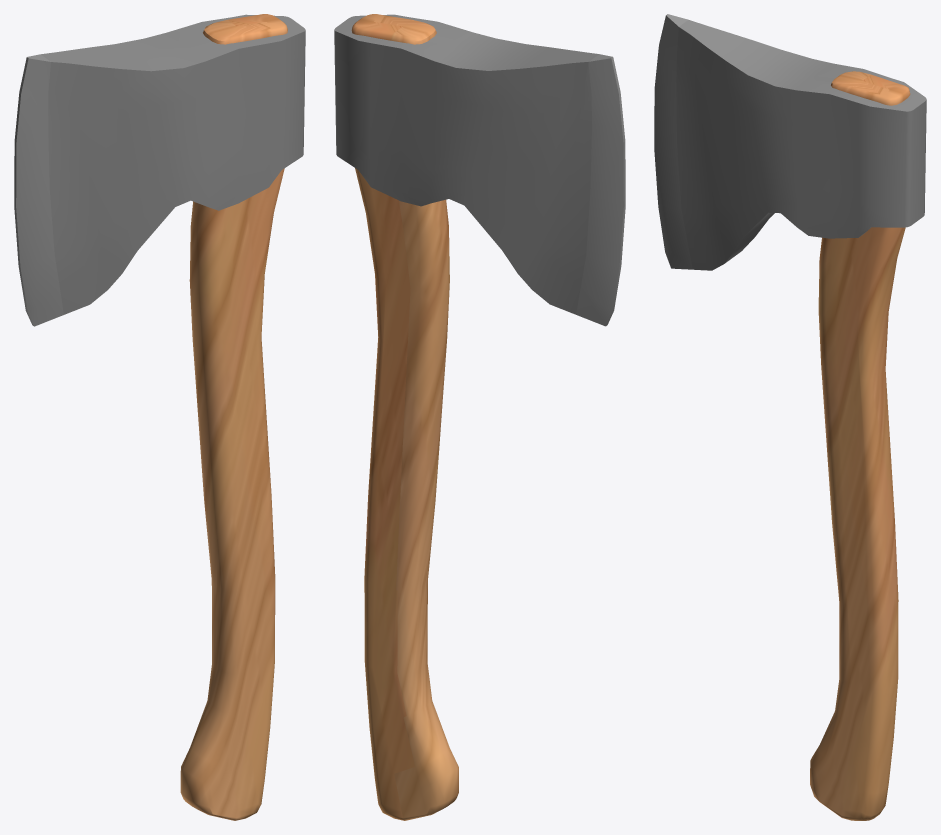
The model's file is Sikira.fbx.
3 views of the same model, side by side, from view 1: azimuth 30°, elevation 25°; view 2: azimuth 150°, elevation 25°; view 3: azimuth 330°, elevation 25° (orthographic). The views are drawn at different scales.
Visible parts, largest first — view 1: Axe.001; view 2: Axe.001; view 3: Axe.001.
Part boxes in pixels (<box>): Axe.001: <box>14,14,305,820</box>; Axe.001: <box>334,14,625,820</box>; Axe.001: <box>654,14,926,820</box>.
Size of the model in its own units: 18.57 by 50.63 by 4.73.
3 materials, 1 textured.
